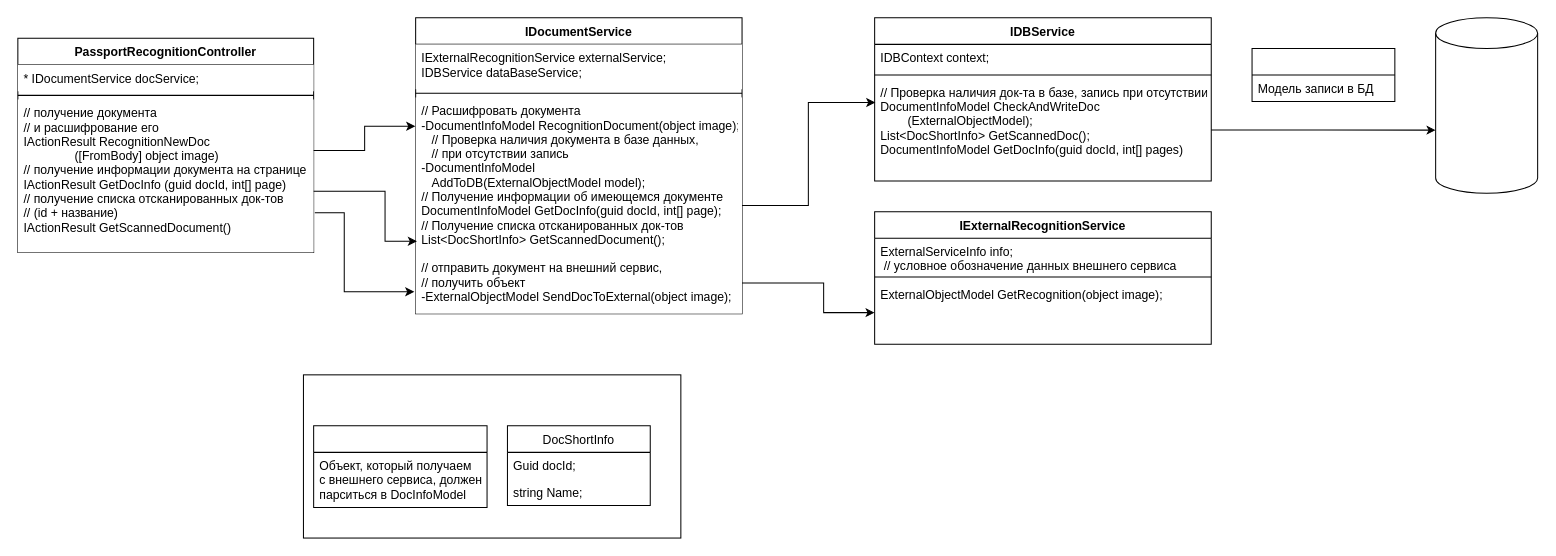
Image size: 1556x556. Some labels were removed from this diagram. The shapes that lost their labels are listed below. From the top down, each one's box as (x1, y1, x2, y2) in pixels, then its label:
(1251, 47, 1395, 101): DocumentInfoModel
(1435, 17, 1538, 193): ScannedDocsDB
(313, 425, 487, 507): ExternalObjectModel
(302, 374, 681, 538): Shared
